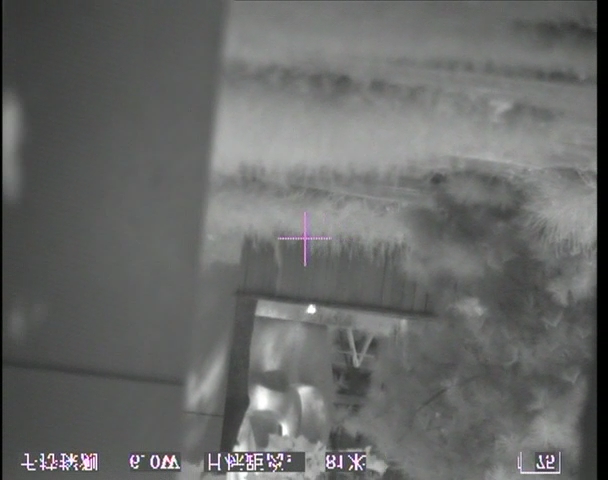my: (304, 303, 317, 314)
